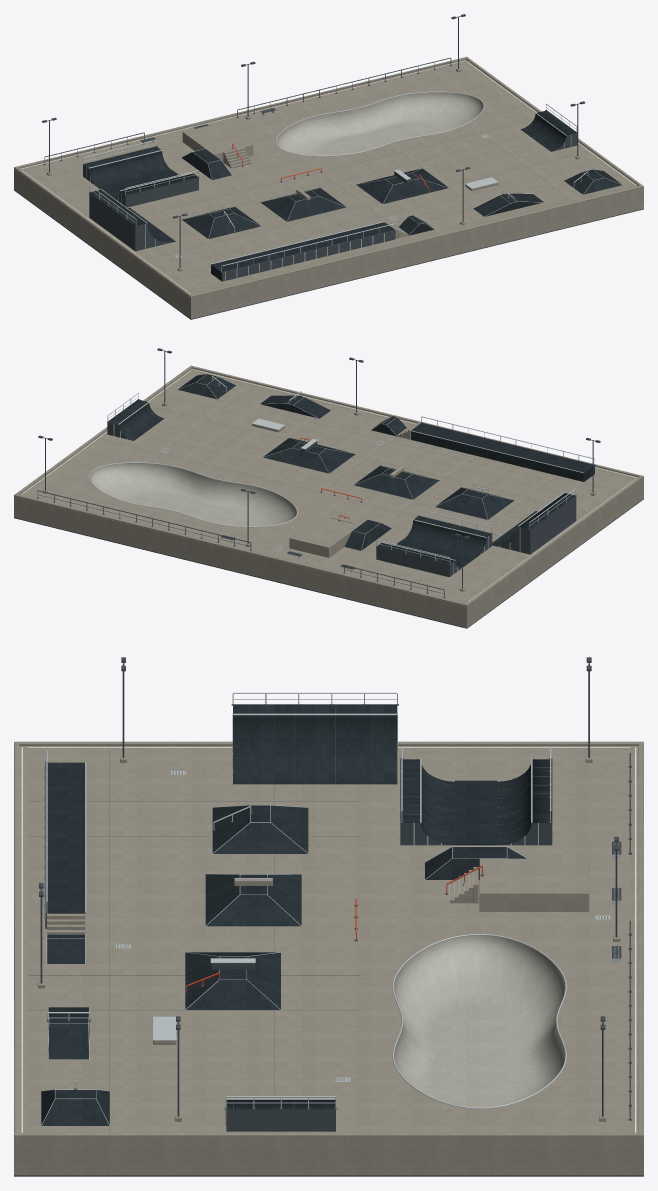
Rendered from insanity-inspired-park.glb.
The picture shows the model from 3 angles, top to bottom: view 1: azimuth 30°, elevation 25°; view 2: azimuth 150°, elevation 25°; view 3: azimuth 270°, elevation 25°; orthographic projection. The views are drawn at different scales.
Visible parts, largest first — view 1: PARK / Concrete / warm aggregate, PARK / Composite / charcoal riding panels, PARK / Concrete / smooth bowl, PARK / Steel / powder coated frame, PARK / Steel / brushed coping, PARK / Paint / bone white; view 2: PARK / Concrete / warm aggregate, PARK / Composite / charcoal riding panels, PARK / Concrete / smooth bowl, PARK / Steel / powder coated frame, PARK / Steel / brushed coping, PARK / Paint / bone white; view 3: PARK / Concrete / warm aggregate, PARK / Composite / charcoal riding panels, PARK / Concrete / smooth bowl, PARK / Steel / powder coated frame, PARK / Steel / brushed coping, PARK / Joint / graphite, PARK / Paint / bone white.
Part boxes in pixels (x1,y1,x2,y2): PARK / Concrete / warm aggregate: (14,56,643,318); PARK / Composite / charcoal riding panels: (84,110,622,280); PARK / Concrete / smooth bowl: (276,92,483,155); PARK / Steel / powder coated frame: (14,14,643,319); PARK / Steel / brushed coping: (83,91,622,280); PARK / Paint / bone white: (20,60,635,293); PARK / Concrete / warm aggregate: (14,365,643,627); PARK / Composite / charcoal riding panels: (108,374,594,567); PARK / Concrete / smooth bowl: (90,463,296,526); PARK / Steel / powder coated frame: (14,348,643,628); PARK / Steel / brushed coping: (89,374,594,574); PARK / Paint / bone white: (22,369,637,602); PARK / Concrete / warm aggregate: (14,741,643,1175); PARK / Composite / charcoal riding panels: (41,704,552,1125); PARK / Concrete / smooth bowl: (394,935,565,1107); PARK / Steel / powder coated frame: (14,657,643,1176); PARK / Steel / brushed coping: (41,692,620,1125); PARK / Joint / graphite: (28,704,608,1131); PARK / Paint / bone white: (21,747,636,1132).
Bounding box in the file's own units: 68 × 11.07 × 46.
9 materials, 3 textured.
